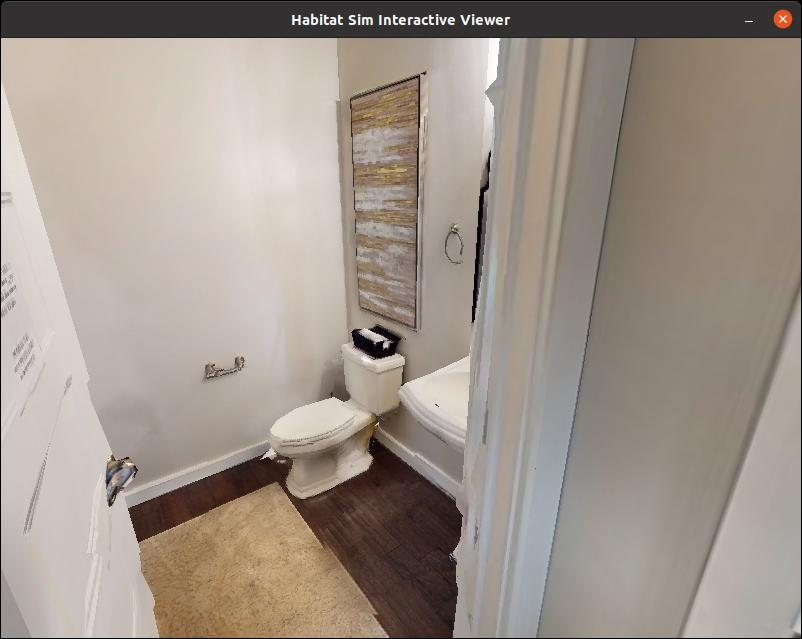toilet: (253, 319, 427, 504)
